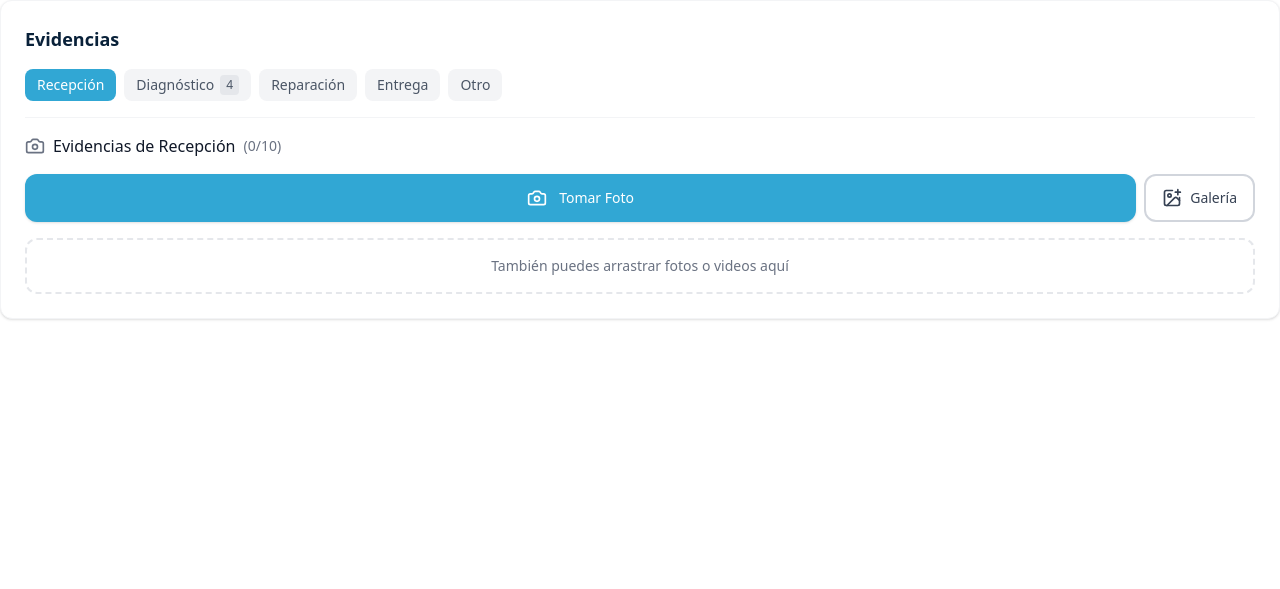
it: Componente EvidenciasSection renderiza fotos › muestra fotos de DIAGNOSTICO al cambiar de tab (bug principal OS-2026-03-007)
Click the button "Diagnóstico 4" at (188, 85), box [124,69,251,101]
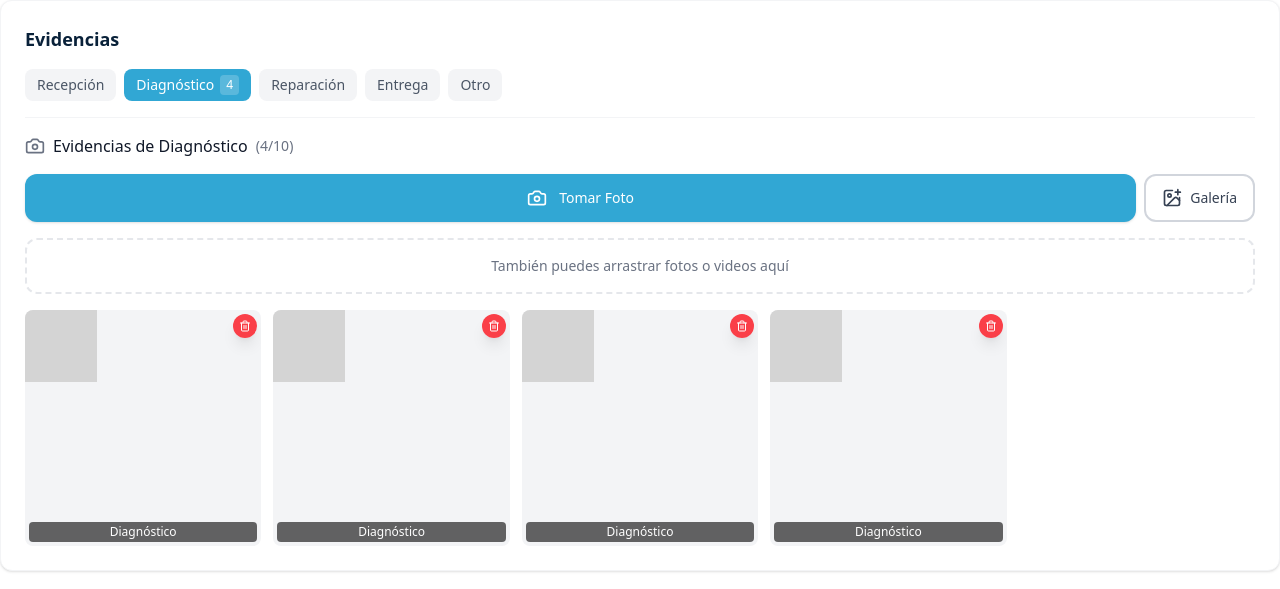
Expected: the text "(4/10)" is shown, [256,136,293,156]
